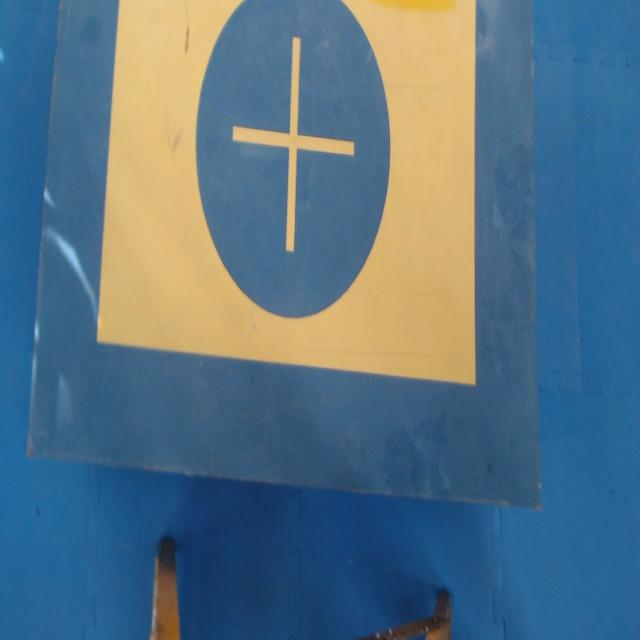base_inicio: (96, 0, 476, 387)
